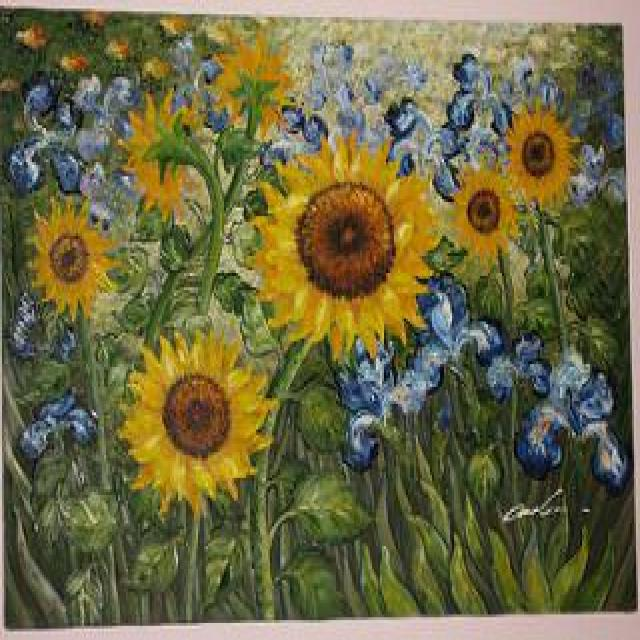sunflower: (247, 126, 440, 360), (117, 332, 274, 512), (18, 195, 112, 311), (213, 31, 294, 138), (124, 90, 190, 221), (509, 96, 582, 207), (450, 169, 521, 259)
